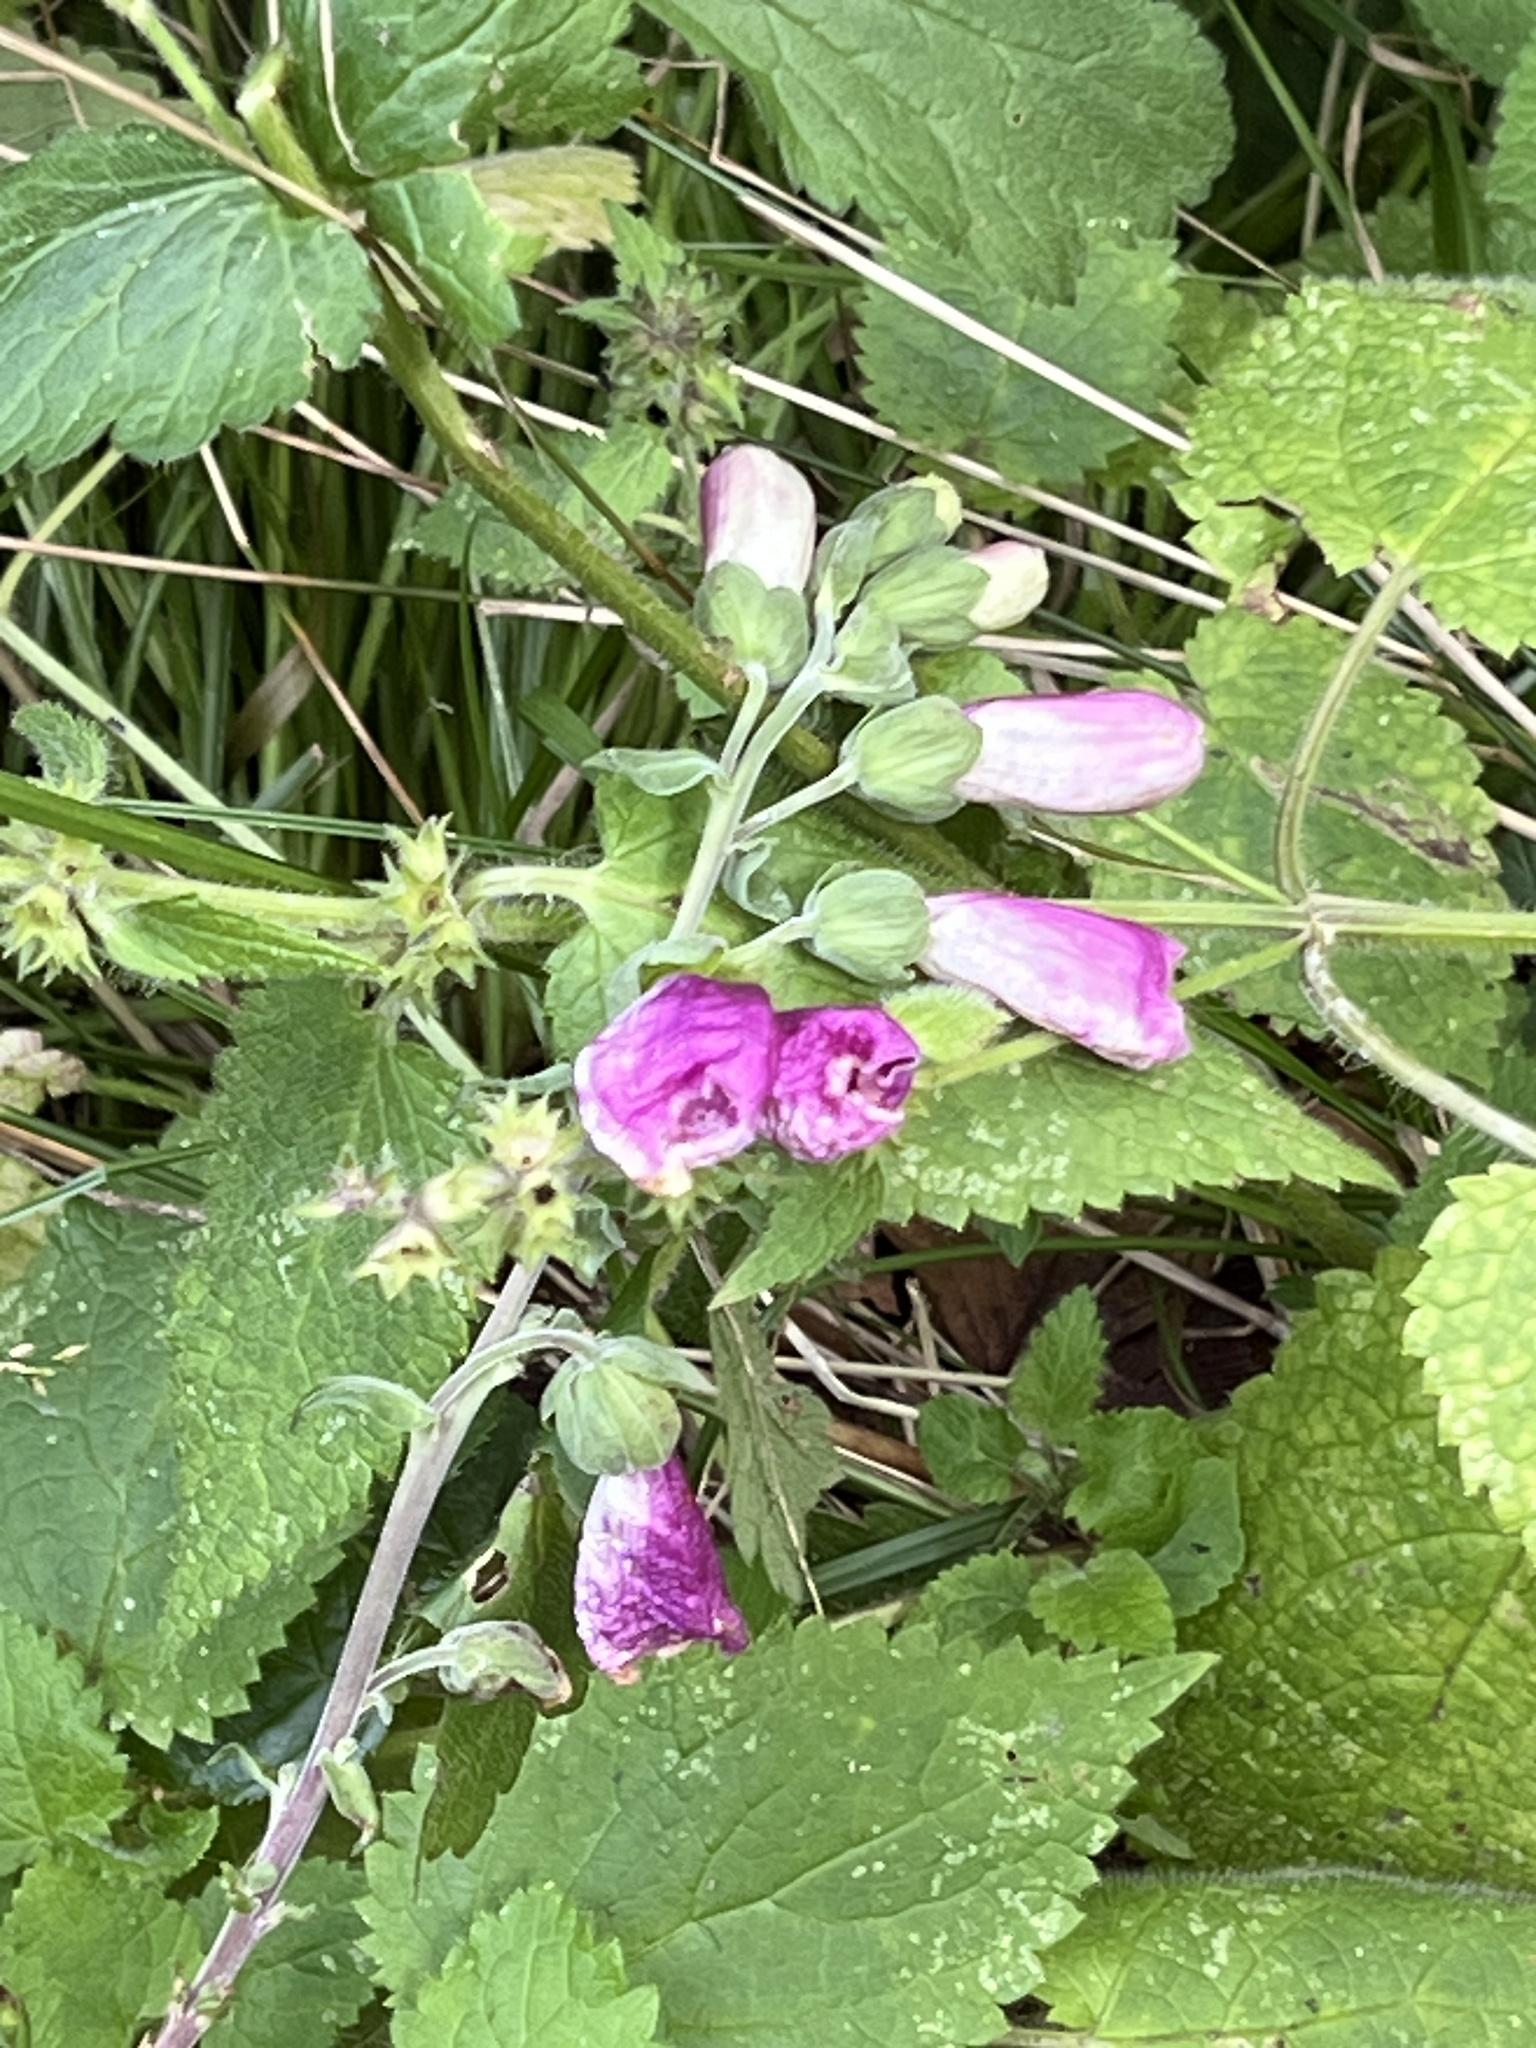Digitalis L: (344, 432, 1218, 1680)
